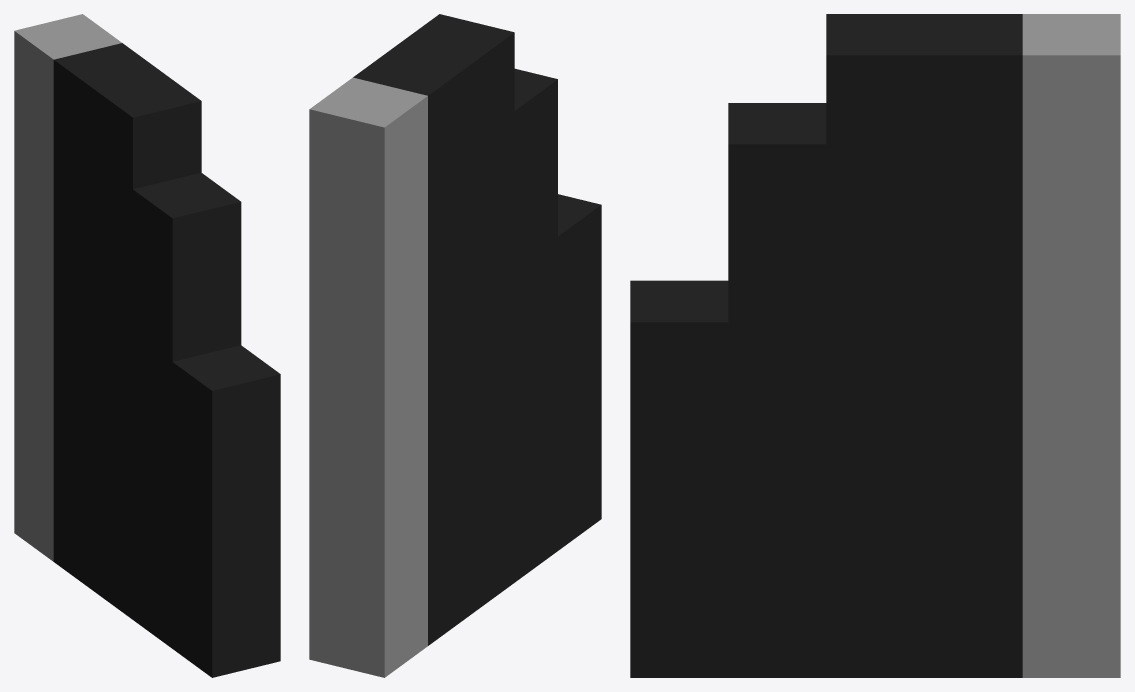
Rendered from kiritan_Knife.obj.
The picture shows the model from 3 angles, left to right: view 1: azimuth 30°, elevation 25°; view 2: azimuth 150°, elevation 25°; view 3: azimuth 270°, elevation 25°; orthographic projection. The views are drawn at different scales.
Parts seen in each view (by area): view 1: kiritan_Knife; view 2: kiritan_Knife; view 3: kiritan_Knife.
Boxes of the visible parts, <box> form: kiritan_Knife: <box>14,14,280,677</box>; kiritan_Knife: <box>309,14,601,677</box>; kiritan_Knife: <box>630,14,1120,677</box>.
Bounding box in the file's own units: 1 × 7 × 5.
Materials: 1 (1 with a texture image).
